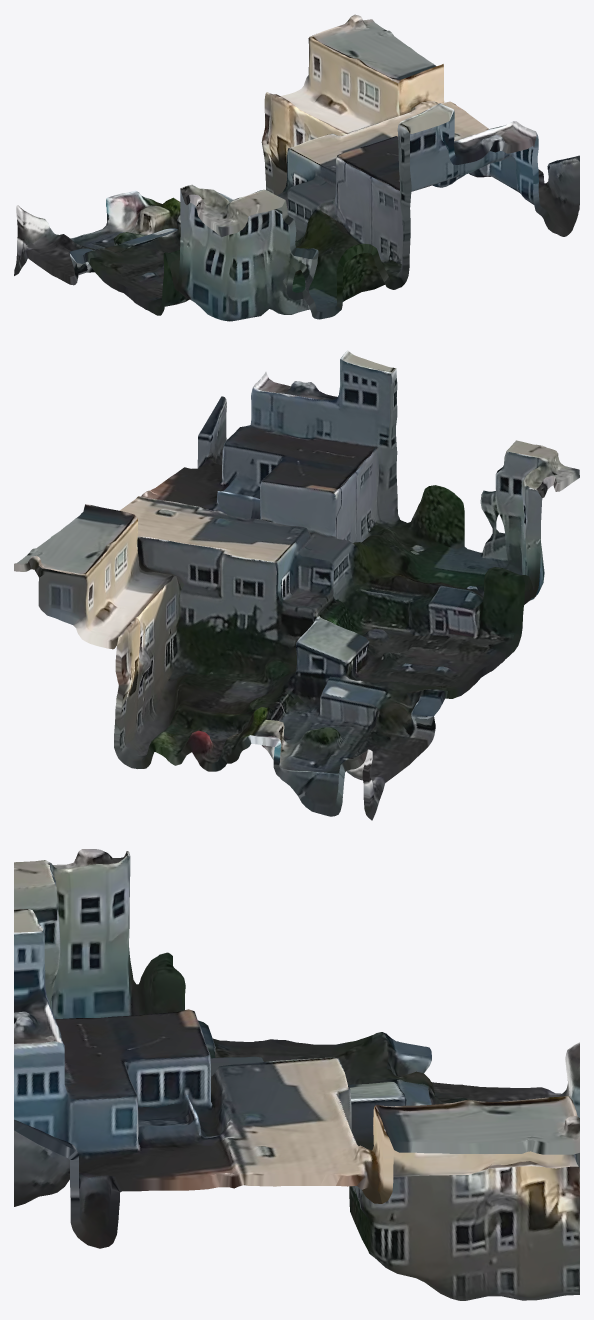
Rendered from z20-167745-405193-h0-yup-uvflip-v3-world.glb.
3 renders of one model, top to bottom at view 1: azimuth 30°, elevation 25°; view 2: azimuth 150°, elevation 25°; view 3: azimuth 270°, elevation 25°, orthographic. The views are drawn at different scales.
Bounding box in the file's own units: 30.2 × 21.6 × 30.32.
Materials: 1 (1 with a texture image).
